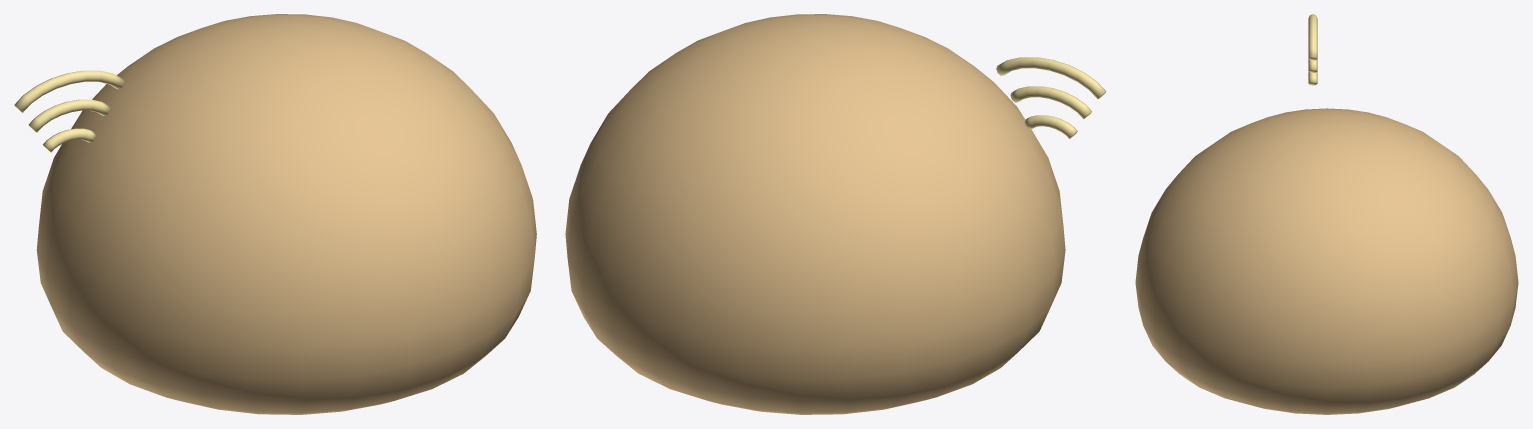
Rendered from Boom.fbx.
3 renders of one model, left to right at view 1: azimuth 30°, elevation 25°; view 2: azimuth 150°, elevation 25°; view 3: azimuth 270°, elevation 25°, orthographic. The views are drawn at different scales.
Visible parts, largest first — view 1: Boom_Outline, Boom_Motif; view 2: Boom_Outline, Boom_Motif; view 3: Boom_Outline, Boom_Motif.
Part boxes in pixels (bbox=[...]): Boom_Outline: bbox=[36, 14, 536, 414]; Boom_Motif: bbox=[14, 70, 124, 152]; Boom_Outline: bbox=[565, 14, 1065, 414]; Boom_Motif: bbox=[996, 57, 1106, 138]; Boom_Outline: bbox=[1135, 108, 1518, 414]; Boom_Motif: bbox=[1308, 14, 1317, 85].
Size of the model in its own units: 1.57 by 1.02 by 1.37.
